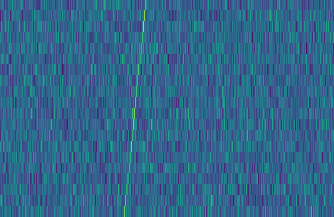signal: (119, 0, 151, 217)
